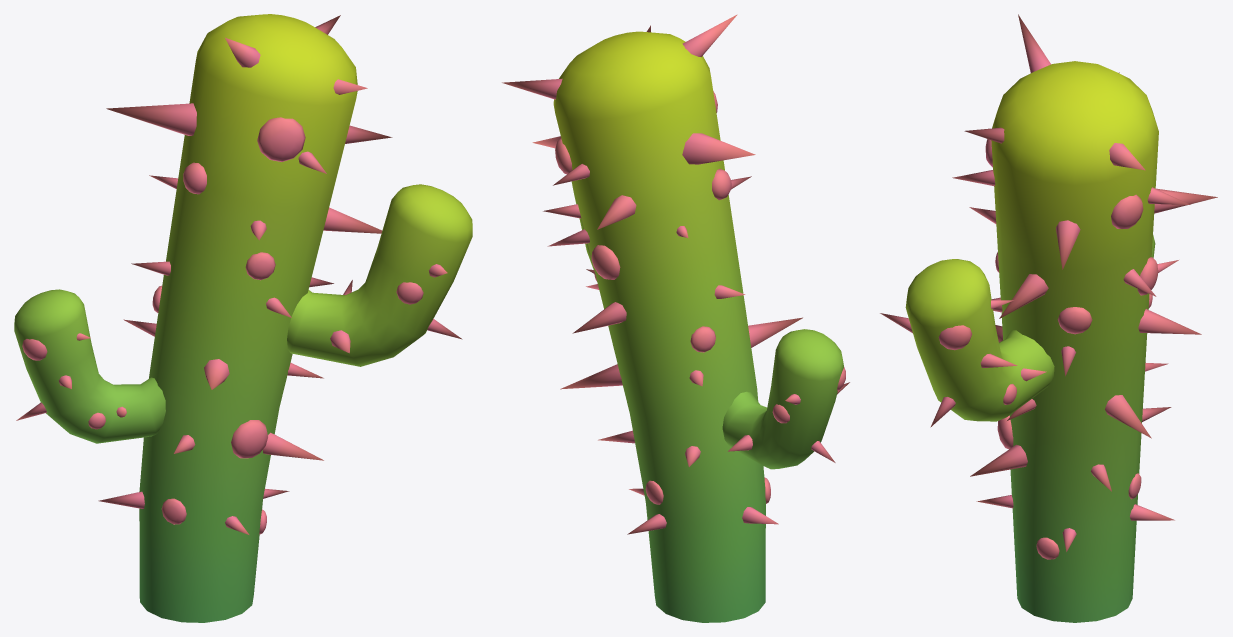
The model's file is Cactus001.fbx.
3 views of the same model, side by side, from view 1: azimuth 30°, elevation 25°; view 2: azimuth 150°, elevation 25°; view 3: azimuth 270°, elevation 25° (orthographic). The views are drawn at different scales.
Visible parts, largest first — view 1: Cactus001; view 2: Cactus001; view 3: Cactus001.
Part boxes in pixels (x1,y1,x2,y2): Cactus001: (14,14,472,622); Cactus001: (502,14,849,622); Cactus001: (880,14,1217,622).
Size of the model in its own units: 42.45 by 64.87 by 34.12.
Materials: 1 (1 with a texture image).
